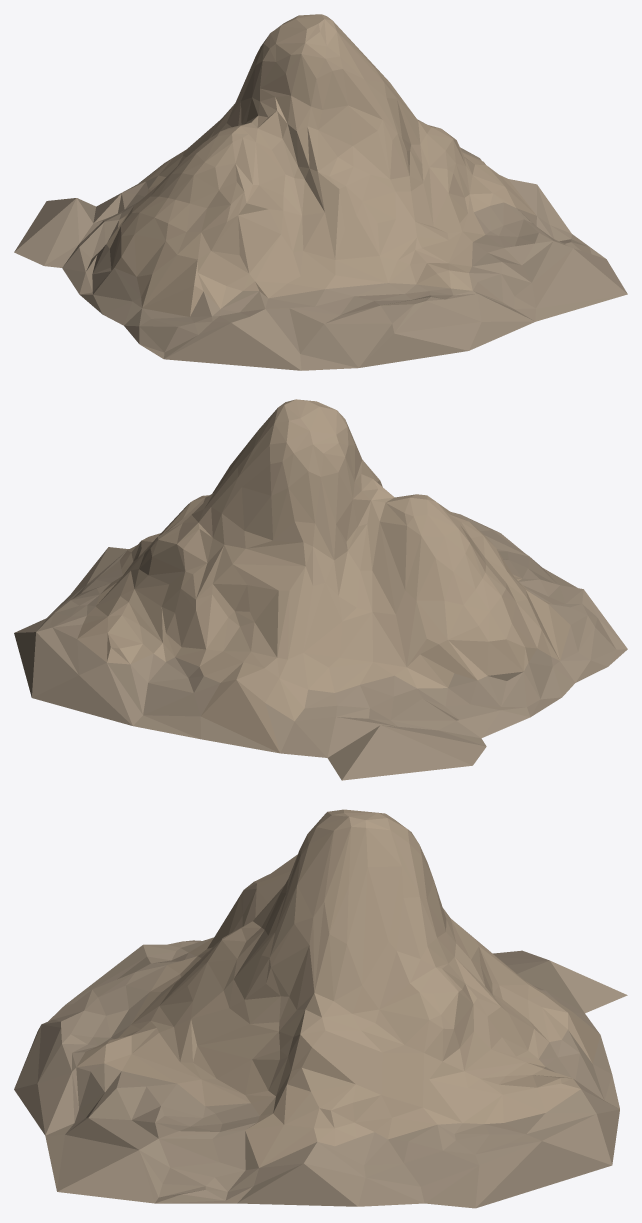
File: SM_Env_Hill_02.fbx
3 renders of one model, top to bottom at view 1: azimuth 30°, elevation 25°; view 2: azimuth 150°, elevation 25°; view 3: azimuth 270°, elevation 25°, orthographic. The views are drawn at different scales.
Visible parts, largest first — view 1: SM_Env_Hill_02; view 2: SM_Env_Hill_02; view 3: SM_Env_Hill_02.
Part boxes in pixels (bbox=[...]): SM_Env_Hill_02: bbox=[14, 14, 627, 370]; SM_Env_Hill_02: bbox=[14, 399, 627, 780]; SM_Env_Hill_02: bbox=[14, 809, 627, 1208].
Bounding box in the file's own units: 0.1114 × 0.0548 × 0.1121.
1 material, 1 textured.
